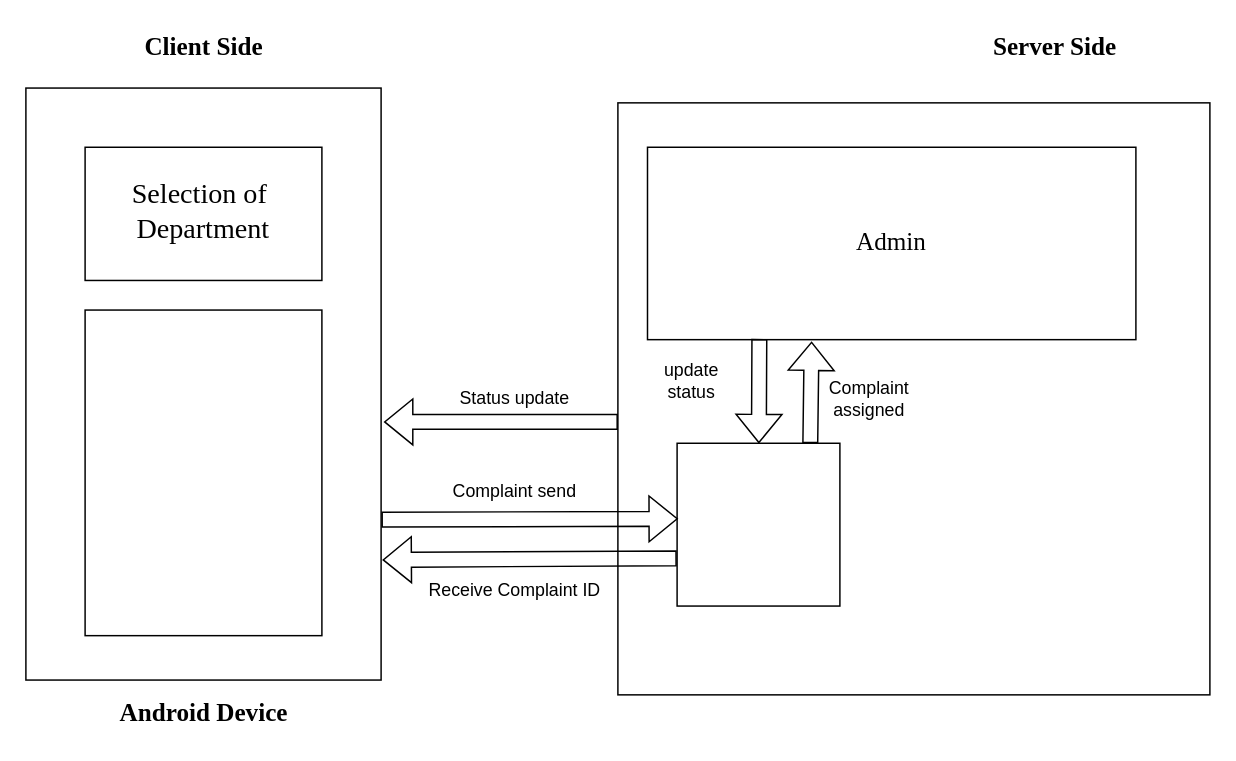
Image size: 1236x761. Some labels were removed from this diagram. Each missing label, with the centre of its shape:
Database: (758,524)
Raise Complaint: (203,472)
